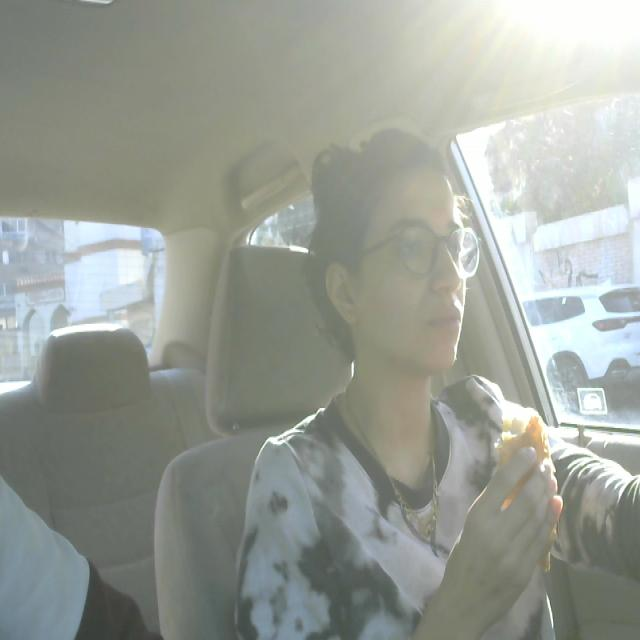eating: (482, 387, 561, 587)
